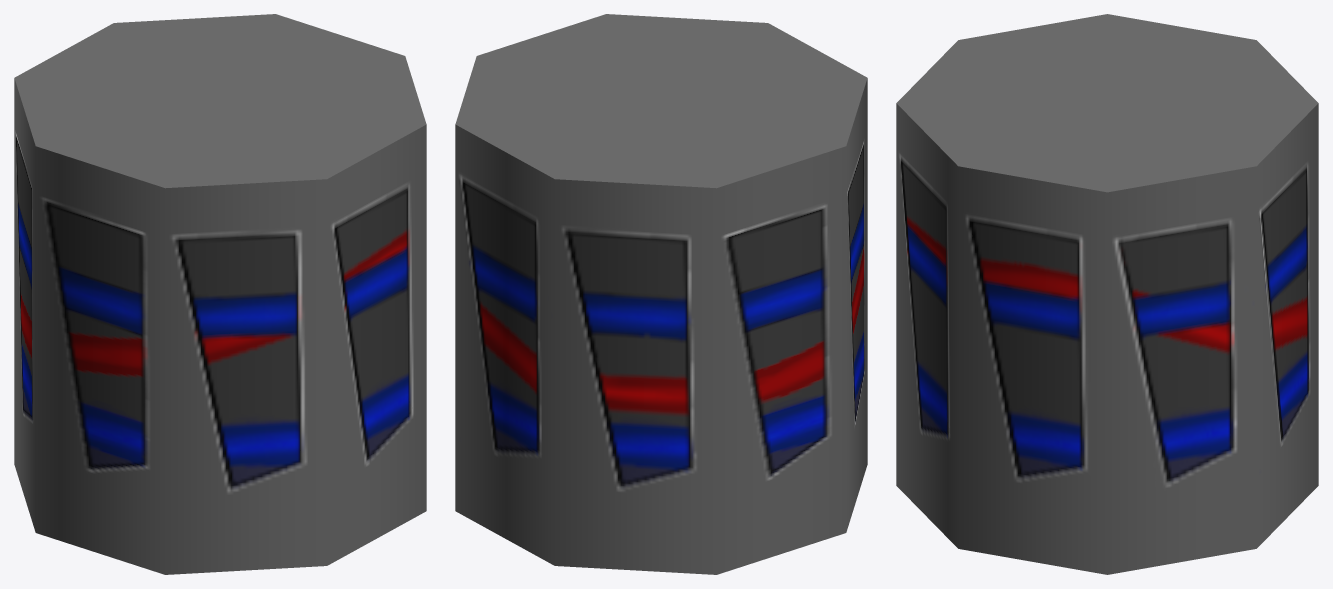
Rendered from space_cylinder.gltf.
The picture shows the model from 3 angles, left to right: view 1: azimuth 30°, elevation 25°; view 2: azimuth 150°, elevation 25°; view 3: azimuth 270°, elevation 25°; orthographic projection.
Parts seen in each view (by area): view 1: space_cylinder_glb; view 2: space_cylinder_glb; view 3: space_cylinder_glb.
Part boxes in pixels (box(x1,y1,x2,y2)): space_cylinder_glb: box(14, 14, 426, 574); space_cylinder_glb: box(455, 14, 867, 574); space_cylinder_glb: box(896, 14, 1318, 574).
Size of what is drawn, in the model's own units: 1.03 by 1.03 by 1.03.
1 material, 1 textured.
